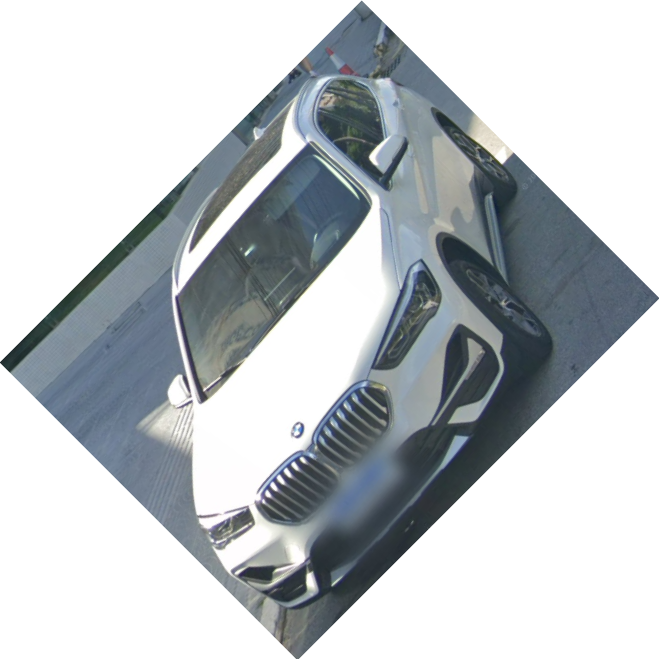car: (166, 72, 553, 611)
